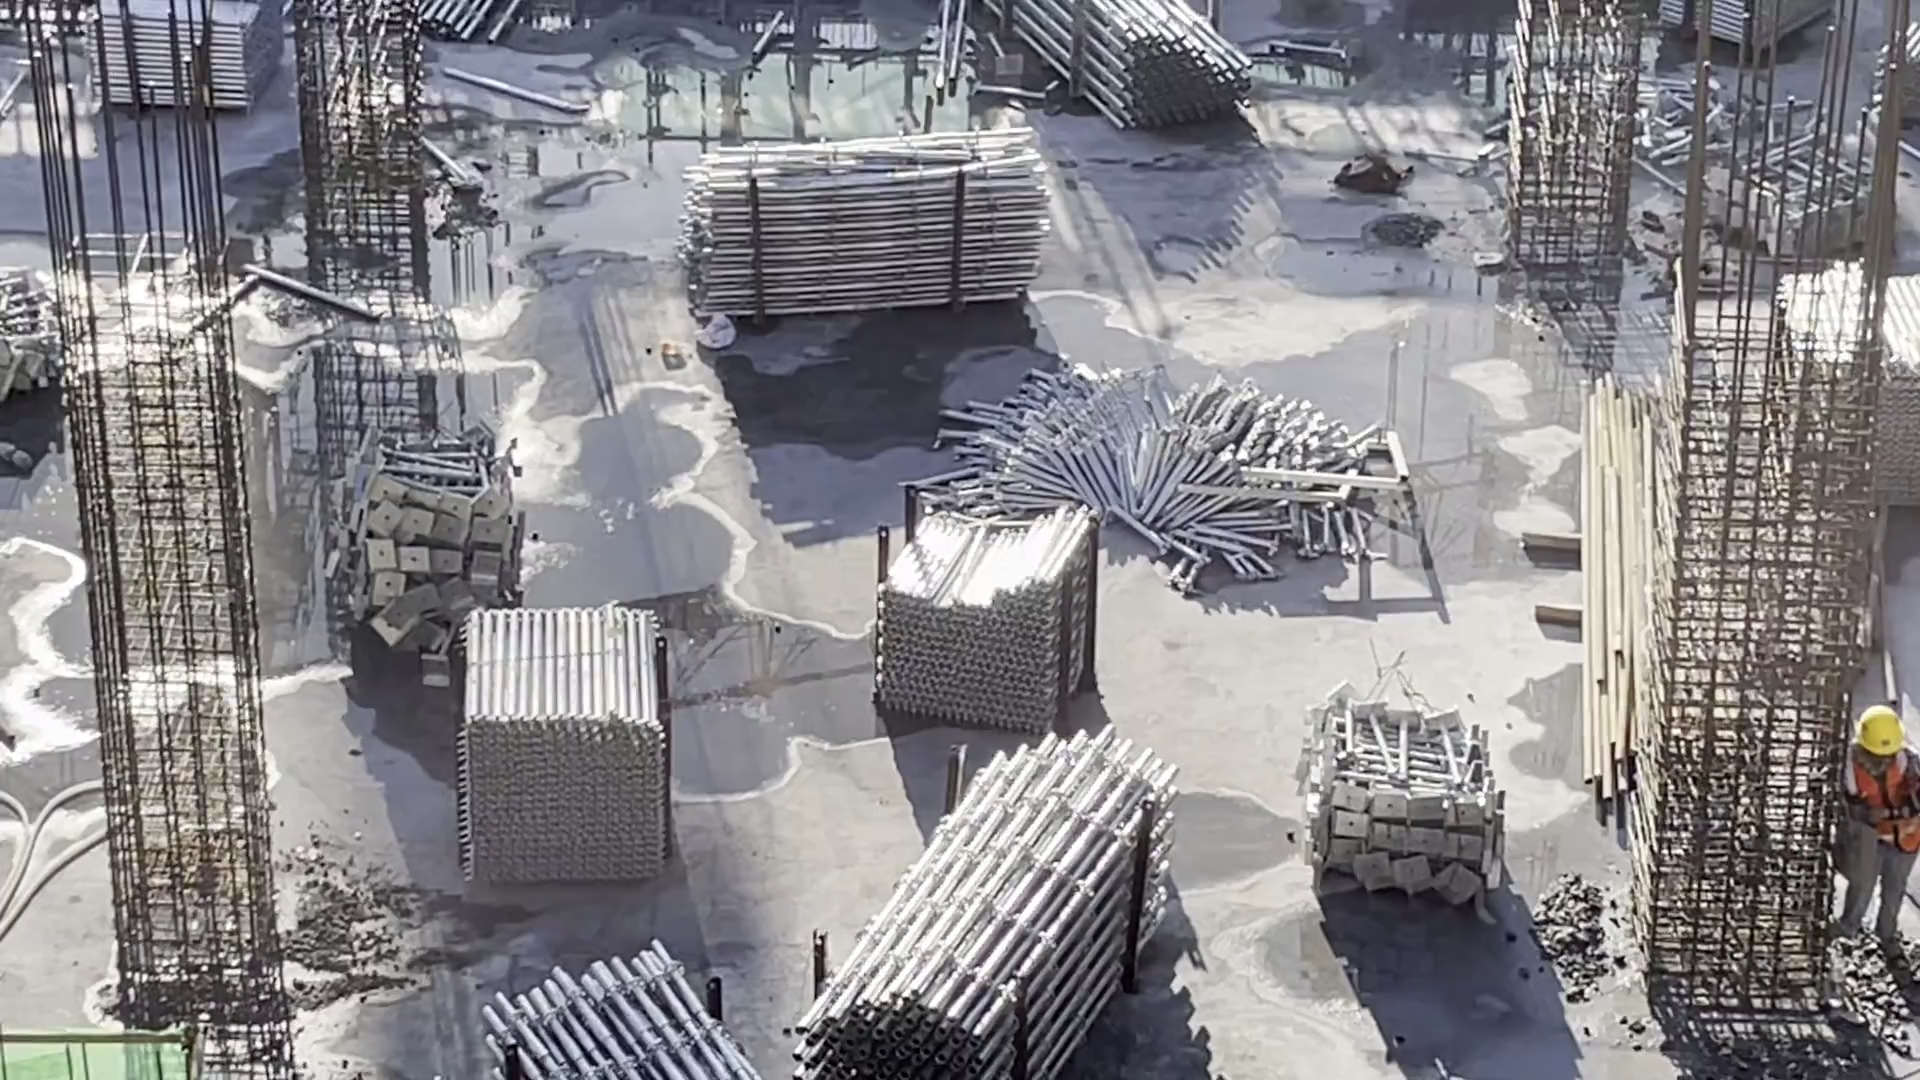helmet: (1855, 698, 1910, 767)
person: (1822, 704, 1920, 922)
scaffold: (801, 728, 1164, 1074), (952, 357, 1385, 600), (669, 138, 1066, 314), (452, 585, 686, 876), (856, 481, 1116, 728), (1624, 65, 1875, 274), (1299, 676, 1519, 905), (329, 456, 530, 681), (1761, 246, 1920, 503), (993, 1, 1273, 137), (469, 964, 744, 1080), (92, 1, 291, 128), (1666, 1, 1832, 78), (1, 252, 86, 400), (1866, 32, 1916, 127)
vest: (1842, 762, 1920, 839)
